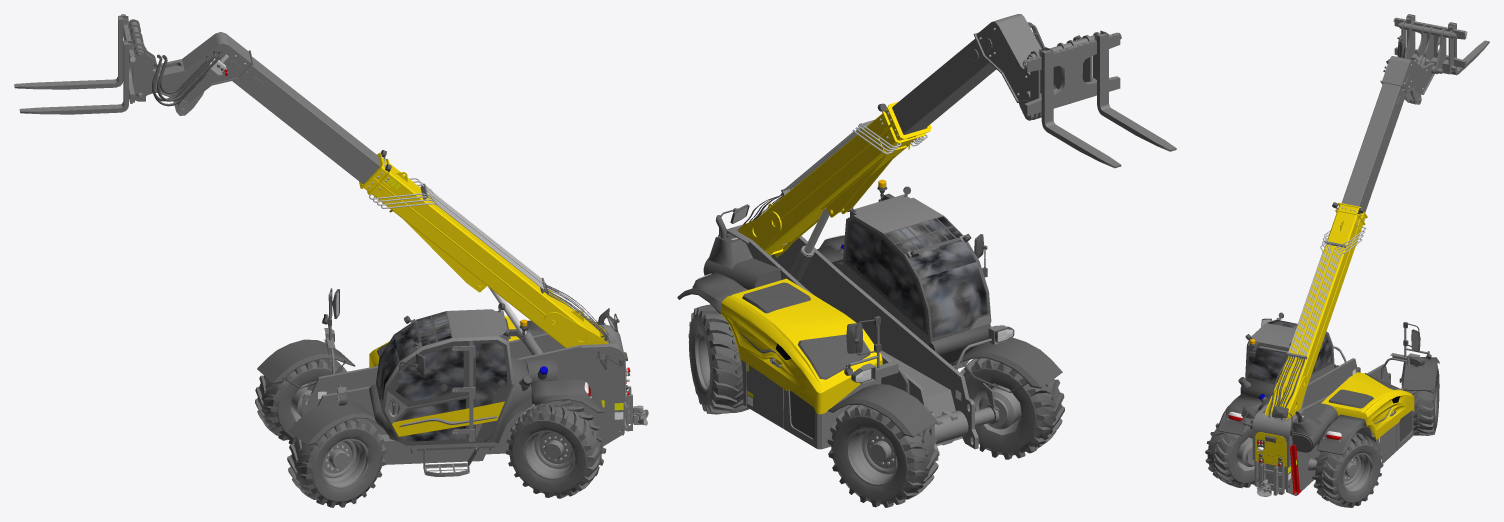
The model's file is telehandler.glb.
3 renders of one model, left to right at view 1: azimuth 30°, elevation 25°; view 2: azimuth 150°, elevation 25°; view 3: azimuth 270°, elevation 25°, orthographic. The views are drawn at different scales.
Visible parts, largest first — view 1: Geom3D_17, Geom3D_20, Geom3D_5, Geom3D_19, Geom3D_8, Geom3D_37, Geom3D_22, Geom3D_6, Geom3D_9; view 2: Geom3D_17, Geom3D_20, Geom3D_19, Geom3D_5, Geom3D_37, Geom3D_22, Geom3D_8, Geom3D_16, Geom3D_6, Geom3D_4; view 3: Geom3D_5, Geom3D_17, Geom3D_20, Geom3D_19, Geom3D_8, Geom3D_22, Geom3D_6, Geom3D_37, Geom3D_9, Geom3D_16, Geom3D_25, Geom3D_4.
Boxes of the visible parts, box(x1,y1,x2,y2) form: Geom3D_17: box(290, 294, 625, 489); Geom3D_20: box(257, 288, 630, 445); Geom3D_5: box(14, 14, 546, 293); Geom3D_19: box(255, 359, 606, 507); Geom3D_8: box(359, 153, 608, 347); Geom3D_37: box(376, 311, 507, 441); Geom3D_22: box(369, 310, 625, 436); Geom3D_6: box(122, 14, 543, 289); Geom3D_9: box(152, 50, 609, 342); Geom3D_17: box(694, 194, 1022, 486); Geom3D_20: box(677, 186, 1062, 438); Geom3D_19: box(688, 304, 1064, 507); Geom3D_5: box(781, 14, 1176, 245); Geom3D_37: box(847, 216, 987, 337); Geom3D_22: box(720, 203, 882, 414); Geom3D_8: box(738, 101, 931, 257); Geom3D_16: box(934, 385, 1021, 445); Geom3D_6: box(783, 28, 1121, 190); Geom3D_4: box(790, 83, 1054, 281); Geom3D_5: box(1286, 14, 1489, 359); Geom3D_17: box(1237, 317, 1436, 495); Geom3D_20: box(1217, 318, 1439, 463); Geom3D_19: box(1205, 364, 1439, 507); Geom3D_8: box(1264, 203, 1367, 419); Geom3D_22: box(1255, 372, 1414, 467); Geom3D_6: box(1288, 18, 1467, 355); Geom3D_37: box(1247, 320, 1331, 382); Geom3D_9: box(1268, 35, 1406, 419); Geom3D_16: box(1237, 386, 1402, 495); Geom3D_25: box(1257, 441, 1300, 494); Geom3D_4: box(1300, 55, 1430, 409).
Bounding box in the file's own units: 6 × 5.01 × 3.72.
21 materials, 1 textured.
